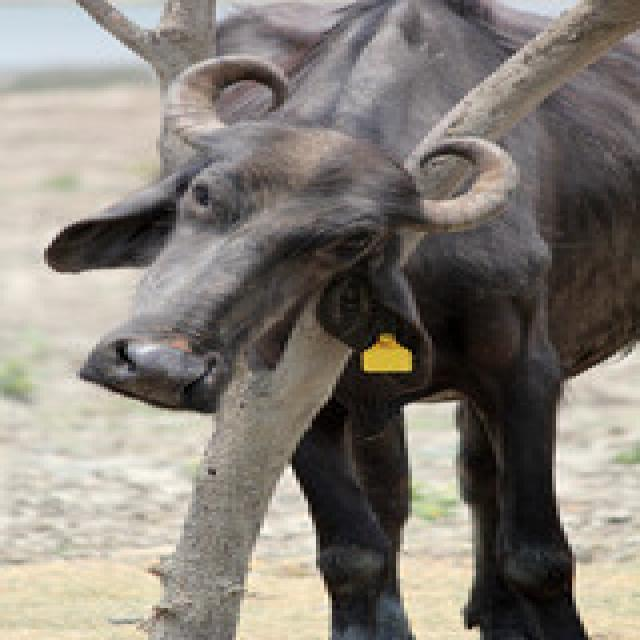Buffalo: (40, 0, 636, 637)
